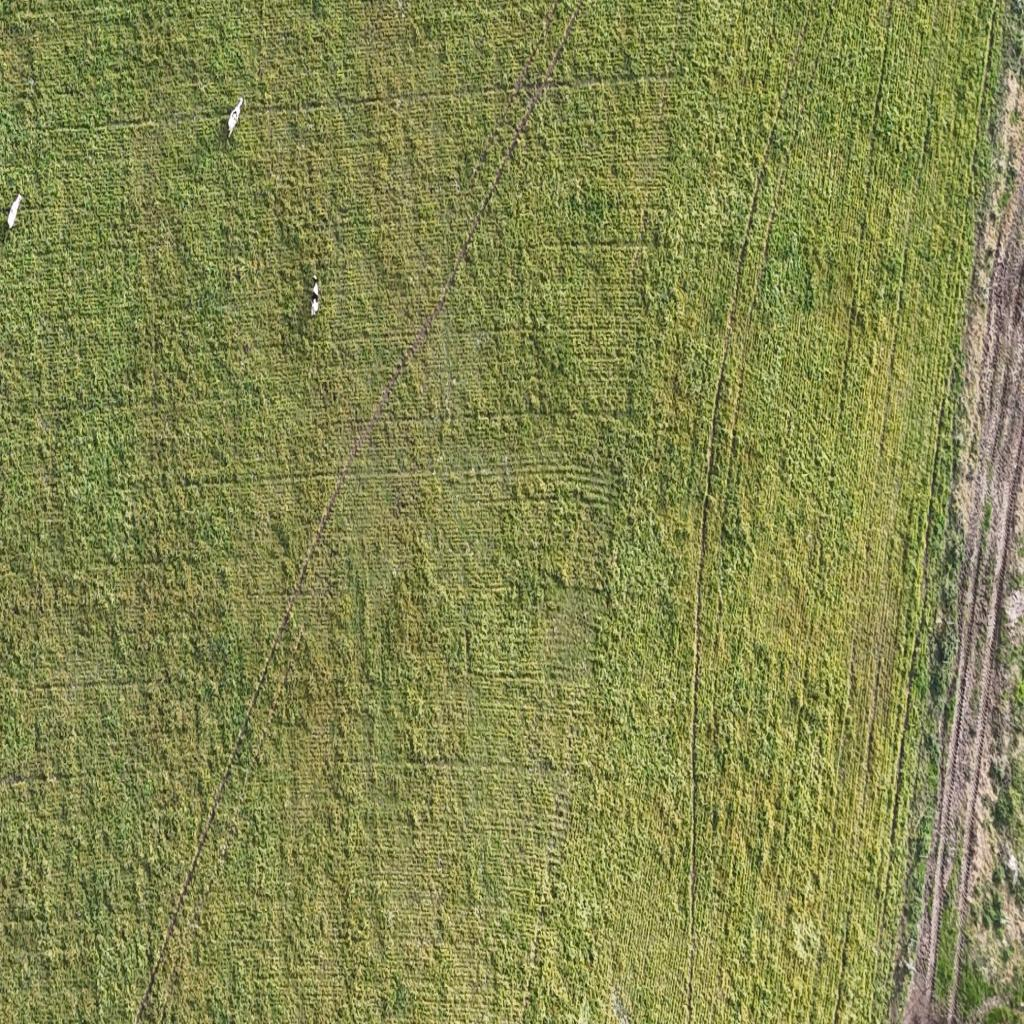cow: (228, 96, 244, 139), (7, 193, 23, 230), (310, 275, 320, 316)
